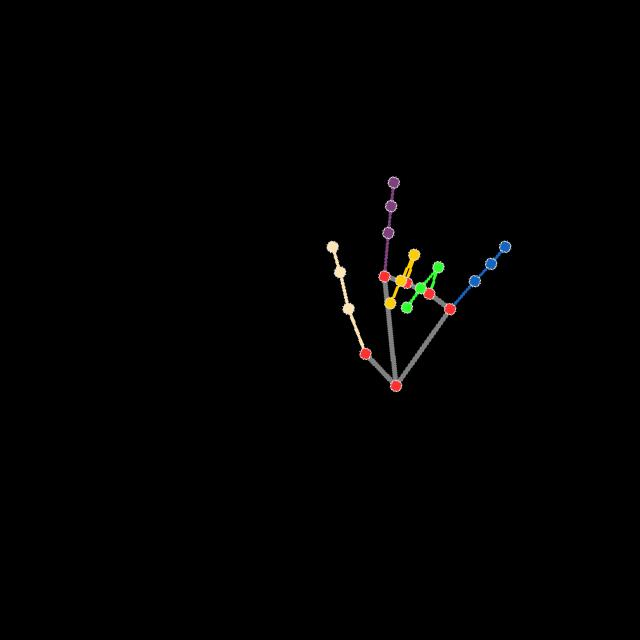spiderman: (322, 172, 512, 394)
